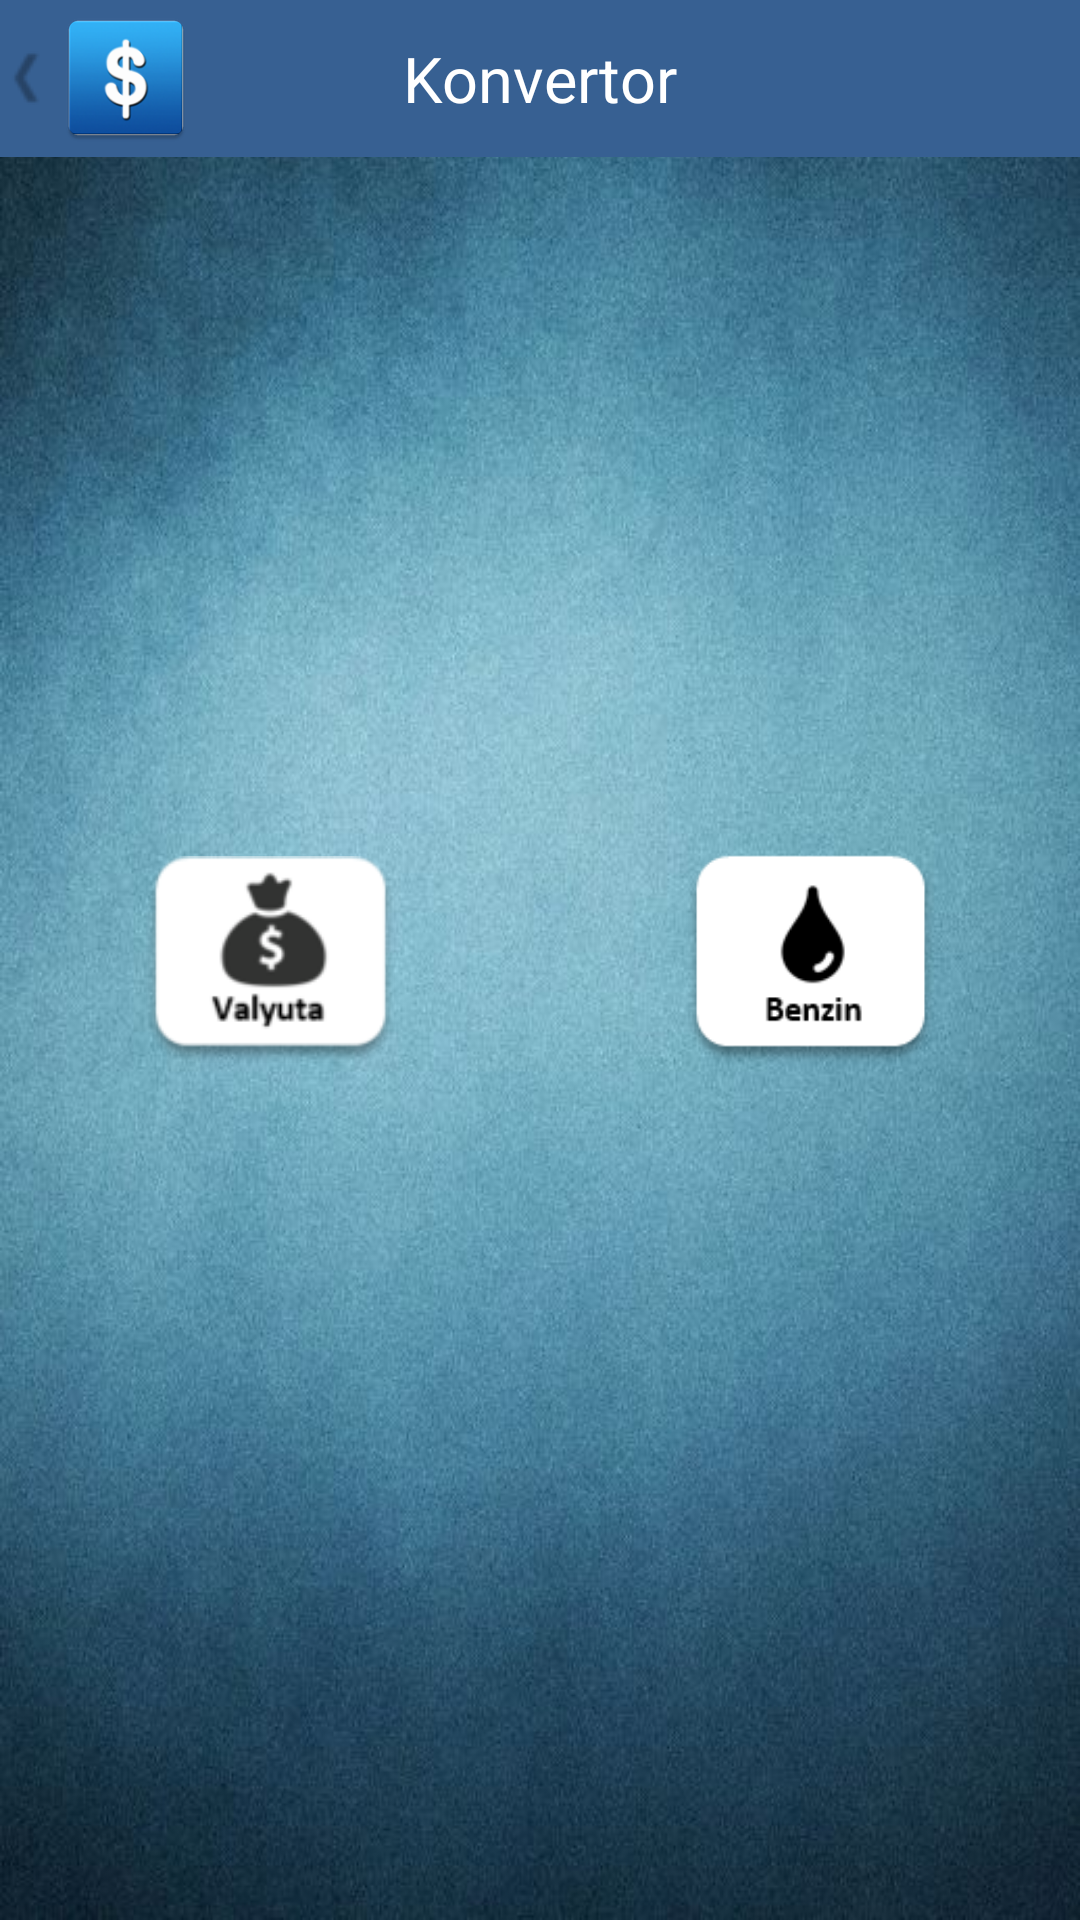

Icon click points for this 1080w x 1920h phone screenshot, format point (x, y):
arrow: point (26, 78)
